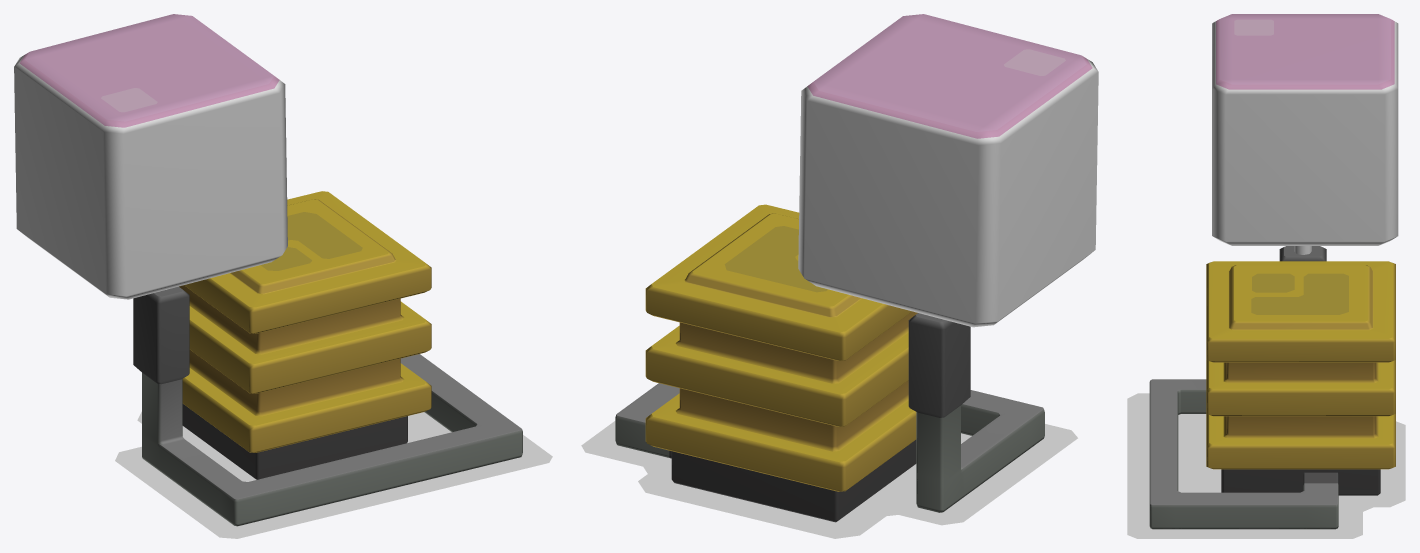
File: MG_special_ballon_01.fbx
3 views of the same model, side by side, from view 1: azimuth 30°, elevation 25°; view 2: azimuth 150°, elevation 25°; view 3: azimuth 270°, elevation 25° (orthographic). The views are drawn at different scales.
Parts seen in each view (by area): view 1: polySurface13, polySurface2, polySurface12, polySurface6, polySurface1, ground; view 2: polySurface13, polySurface4, polySurface6, polySurface1, polySurface12, ground, polySurface3, polySurface5; view 3: polySurface13, polySurface3, polySurface6, polySurface12, ground, polySurface4, polySurface2, polySurface5.
Boxes of the visible parts, x1,y1,x2,y2 form: polySurface13: [179, 191, 431, 479]; polySurface2: [113, 84, 285, 297]; polySurface12: [133, 286, 522, 526]; polySurface6: [19, 14, 279, 127]; polySurface1: [14, 59, 117, 296]; ground: [115, 411, 552, 538]; polySurface13: [645, 204, 917, 522]; polySurface4: [801, 91, 989, 325]; polySurface6: [807, 14, 1092, 138]; polySurface1: [985, 63, 1098, 324]; polySurface12: [615, 313, 1044, 512]; ground: [581, 421, 1077, 538]; polySurface3: [798, 86, 809, 272]; polySurface5: [811, 257, 1085, 327]; polySurface13: [1206, 261, 1395, 495]; polySurface3: [1219, 87, 1391, 243]; polySurface6: [1216, 14, 1394, 89]; polySurface12: [1149, 246, 1338, 529]; ground: [1127, 393, 1405, 538]; polySurface4: [1388, 21, 1398, 240]; polySurface2: [1212, 21, 1221, 240]; polySurface5: [1217, 239, 1392, 245].
Bounding box in the file's own units: 4.38 × 4.15 × 2.94.
